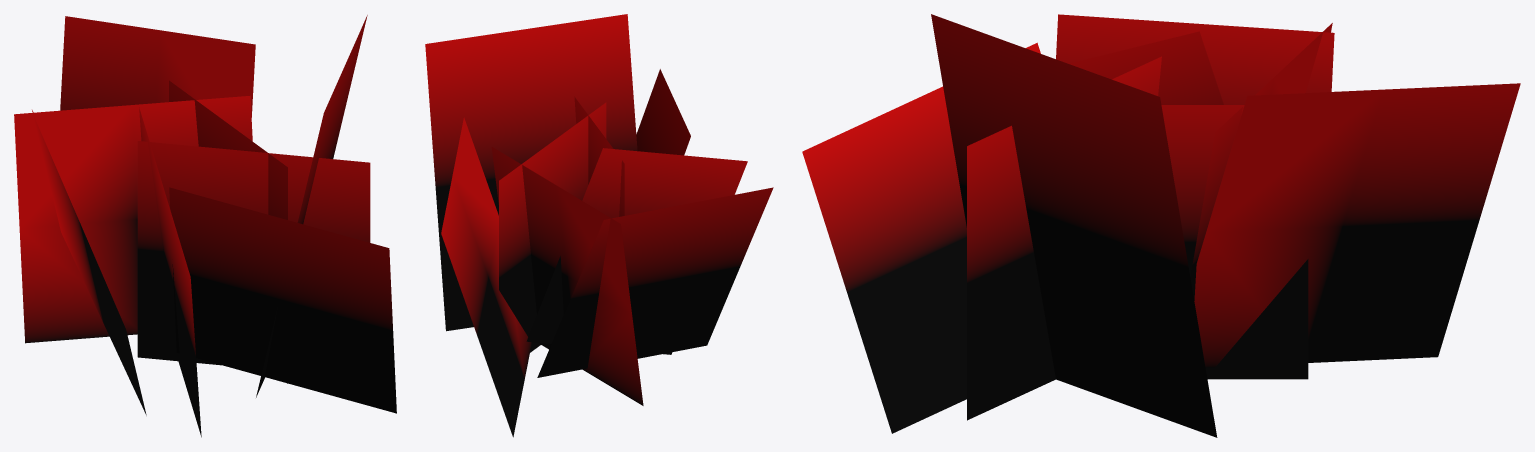
File: shrp_grass01.fbx
3 views of the same model, side by side, from view 1: azimuth 30°, elevation 25°; view 2: azimuth 150°, elevation 25°; view 3: azimuth 270°, elevation 25° (orthographic). The views are drawn at different scales.
Visible parts, largest first — view 1: grass1; view 2: grass1; view 3: grass1.
Part boxes in pixels (bbox=[...]): grass1: bbox=[14, 15, 396, 437]; grass1: bbox=[425, 14, 773, 437]; grass1: bbox=[802, 14, 1520, 437].
Size of the model in its own units: 168 by 153 by 237.
